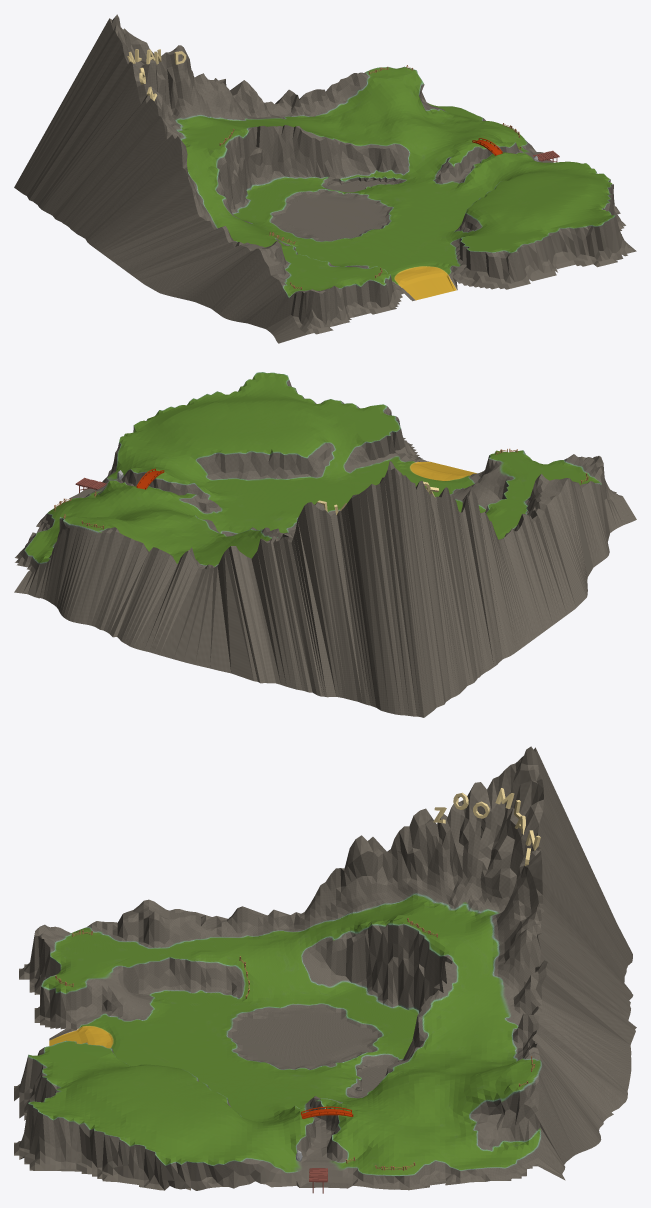
The model's file is Landscape.glb.
3 renders of one model, top to bottom at view 1: azimuth 30°, elevation 25°; view 2: azimuth 150°, elevation 25°; view 3: azimuth 270°, elevation 25°, orthographic. The views are drawn at different scales.
Visible parts, largest first — view 1: Map, Text; view 2: Map; view 3: Map, Text.
Boxes of the visible parts, x1,y1,x2,y2 form: Map: (14, 14, 636, 343); Text: (127, 49, 186, 100); Map: (14, 372, 636, 717); Map: (14, 746, 636, 1190); Text: (433, 788, 540, 865).
Bounding box in the file's own units: 21.67 × 8.93 × 21.39.
Materials: 7 (1 with a texture image).
